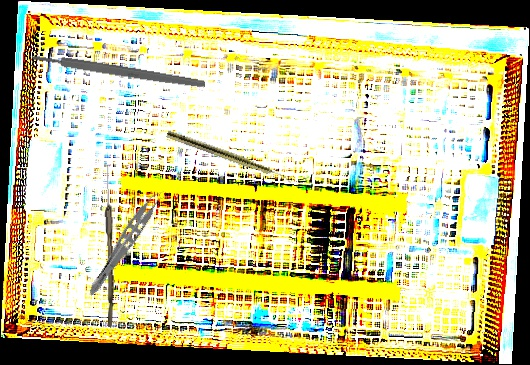Handpiece: (165, 129, 294, 185)
Scalpel Handle: (31, 51, 206, 90)
Surgical Spoon: (102, 165, 117, 327)
Tissue Forceps: (84, 184, 171, 303)
